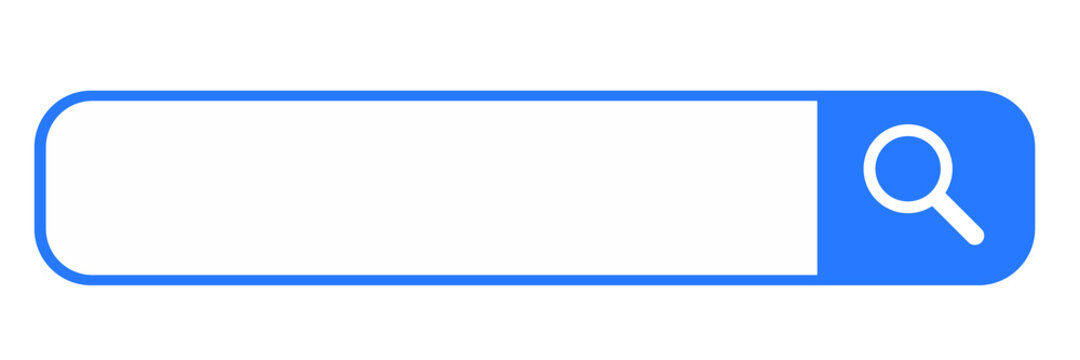search_box: (33, 89, 1033, 284)
